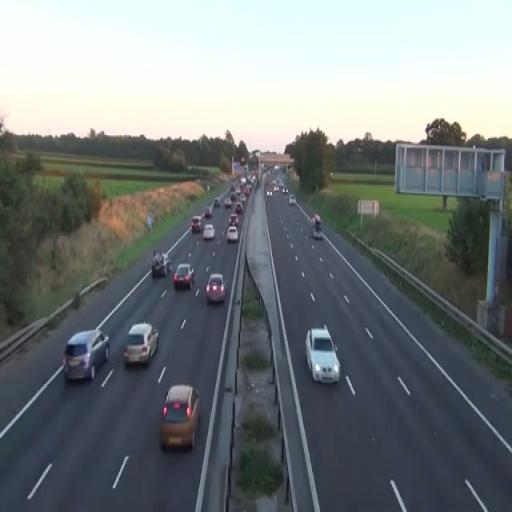Car: (160, 384, 201, 452), (63, 328, 110, 382), (306, 325, 340, 385), (122, 319, 159, 368), (205, 273, 226, 304), (173, 264, 195, 291), (152, 250, 170, 278), (203, 223, 215, 241), (227, 226, 239, 243), (191, 216, 202, 232), (204, 206, 214, 218)
